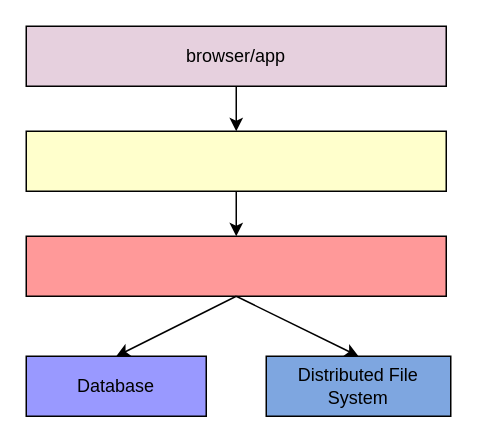
This 477x443 diagram has some shape labels left out. The shapes that lost their labels are listed below. From the top down, each one's centre as x and y in pixels, then its label:
(235,160): gateway/lb
(235,265): application services
